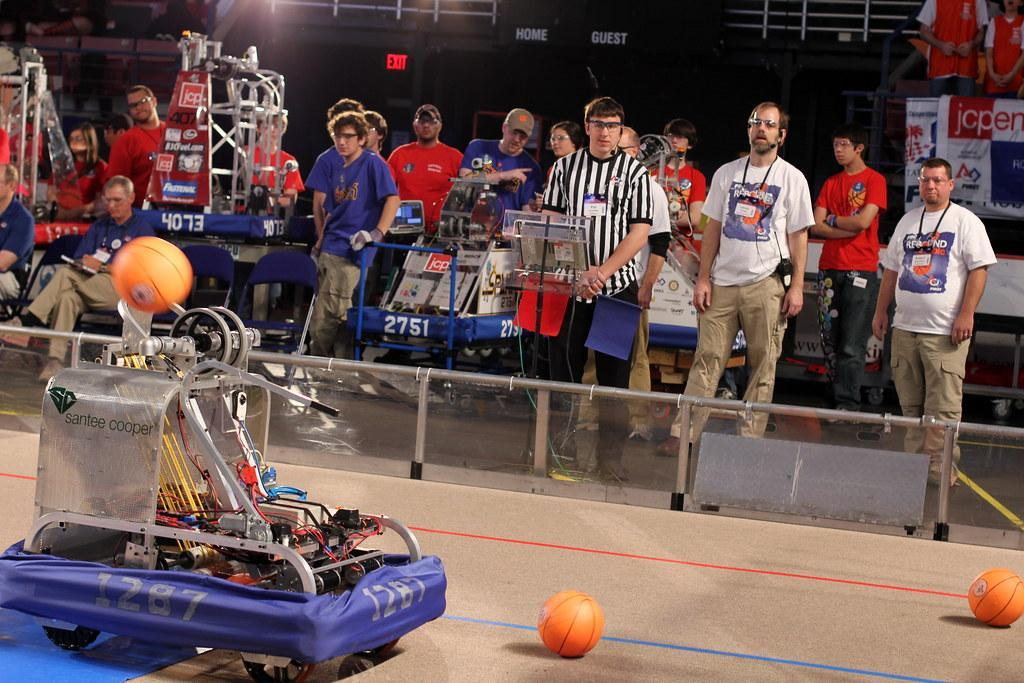robot: (0, 233, 453, 683), (120, 27, 302, 247), (353, 155, 537, 359), (630, 130, 764, 357), (0, 36, 95, 246)
